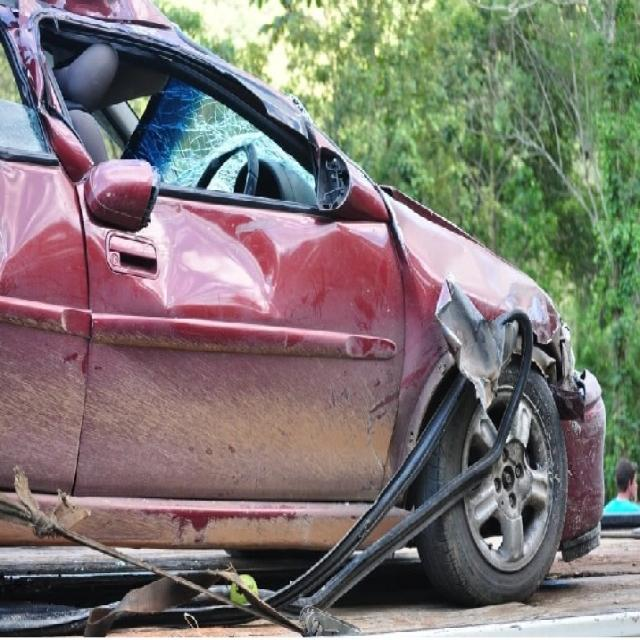accident: (0, 0, 605, 635)
